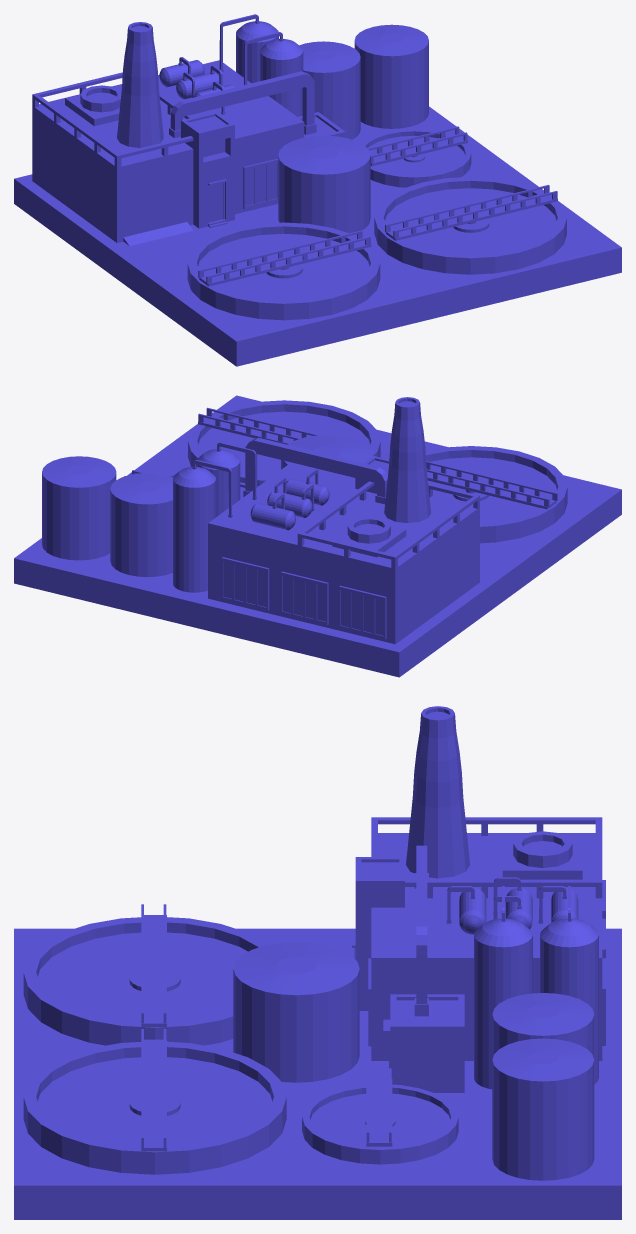
The model's file is water_plant_blueprint.fbx.
3 renders of one model, top to bottom at view 1: azimuth 30°, elevation 25°; view 2: azimuth 150°, elevation 25°; view 3: azimuth 270°, elevation 25°, orthographic. The views are drawn at different scales.
Visible parts, largest first — view 1: Water Plant Blueprint; view 2: Water Plant Blueprint; view 3: Water Plant Blueprint.
Boxes of the visible parts, <box> form: Water Plant Blueprint: <box>14,14,621,366</box>; Water Plant Blueprint: <box>14,395,621,677</box>; Water Plant Blueprint: <box>14,706,621,1219</box>.
Size of the model in its own units: 294 by 154 by 294.
